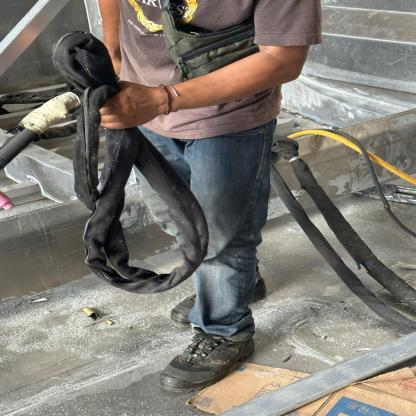bota: (153, 326, 265, 395)
